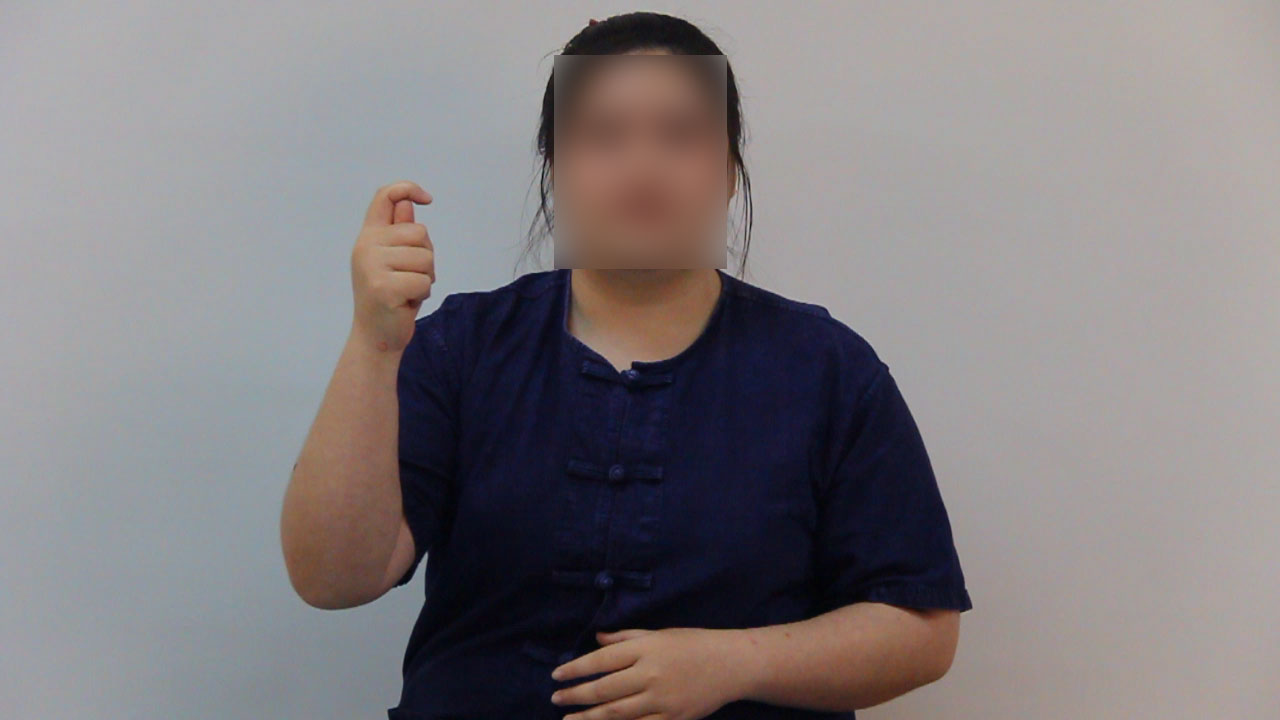or: (337, 176, 445, 368)
